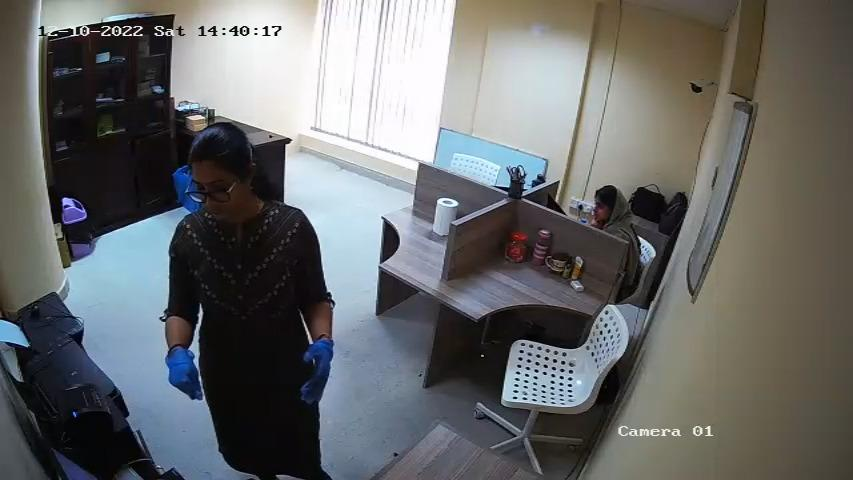gloves: (300, 333, 337, 414), (166, 347, 202, 403)
